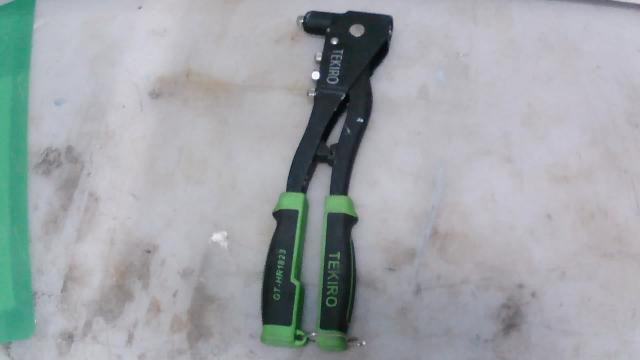tang_rivet: (229, 1, 413, 359)
